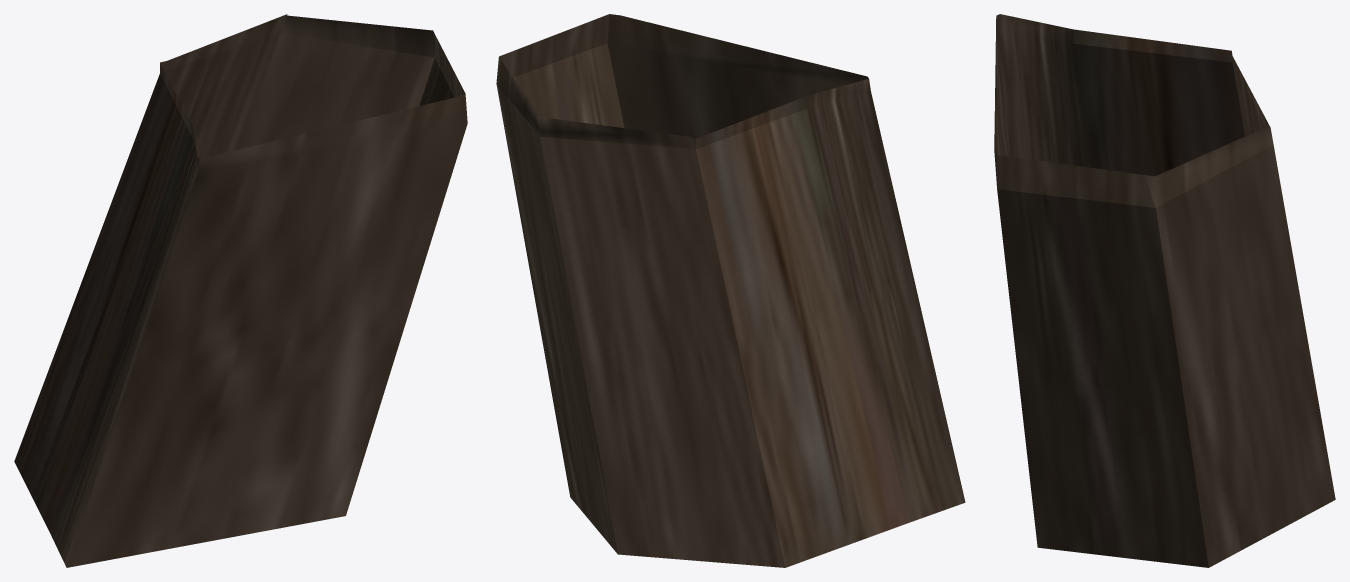
File: jungle_palm_b1_low.glb
3 renders of one model, left to right at view 1: azimuth 30°, elevation 25°; view 2: azimuth 150°, elevation 25°; view 3: azimuth 270°, elevation 25°, orthographic. The views are drawn at different scales.
Visible parts, largest first — view 1: jungle_palm_b1_low; view 2: jungle_palm_b1_low; view 3: jungle_palm_b1_low.
Boxes of the visible parts, x1,y1,x2,y2 form: jungle_palm_b1_low: (14,14,467,567); jungle_palm_b1_low: (496,14,965,567); jungle_palm_b1_low: (994,14,1335,567).
Size of the model in its own units: 0.6777 by 0.6284 by 0.436.
1 material, 1 textured.
